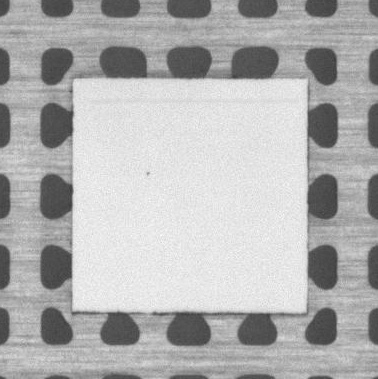DIE_CRACK: (87, 92, 299, 105)
